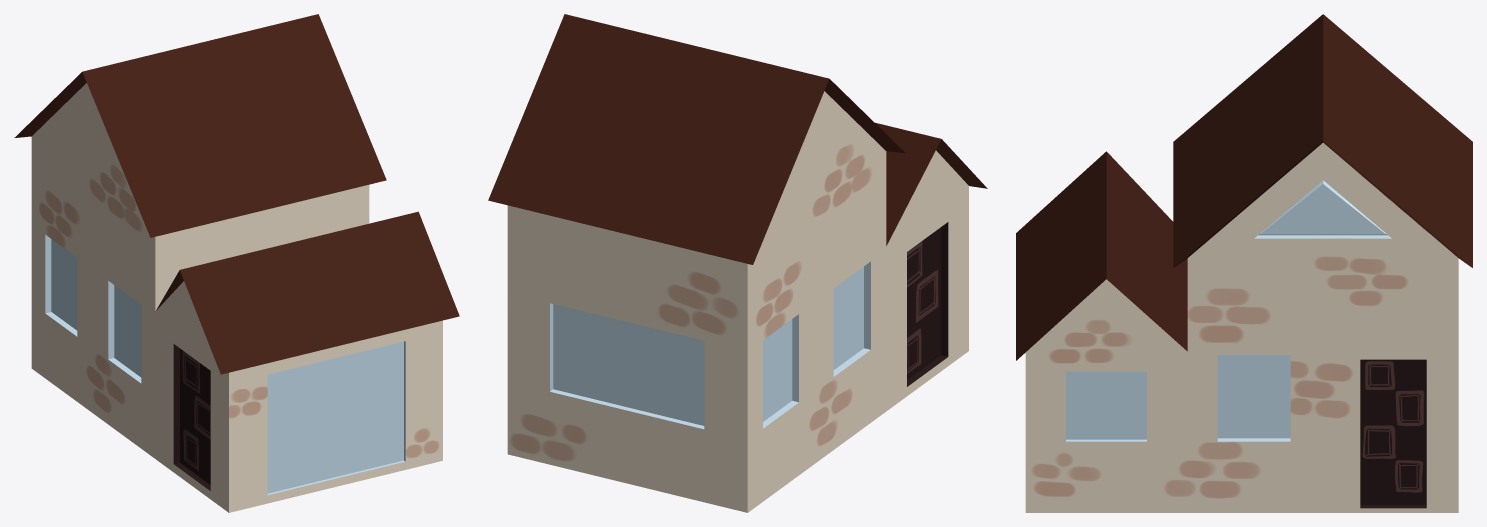
File: House Small.fbx
3 renders of one model, left to right at view 1: azimuth 30°, elevation 25°; view 2: azimuth 150°, elevation 25°; view 3: azimuth 270°, elevation 25°, orthographic. The views are drawn at different scales.
Visible parts, largest first — view 1: Roof, House, Window, Doors; view 2: House, Roof, Window, Doors; view 3: House, Roof, Window, Doors.
Part boxes in pixels (left/top/right/bottom): Roof: left=14, top=14, right=459, bottom=374; House: left=31, top=83, right=442, bottom=512; Window: left=45, top=235, right=405, bottom=494; Doors: left=173, top=344, right=210, bottom=490; House: left=507, top=91, right=968, bottom=512; Roof: left=488, top=14, right=987, bottom=264; Window: left=550, top=261, right=870, bottom=429; Doors: left=907, top=222, right=948, bottom=386; House: left=1025, top=143, right=1458, bottom=512; Roof: left=1016, top=14, right=1472, bottom=360; Window: left=1066, top=180, right=1391, bottom=441; Doors: left=1360, top=359, right=1426, bottom=508.
Size of the model in its own units: 446 by 615 by 672.
